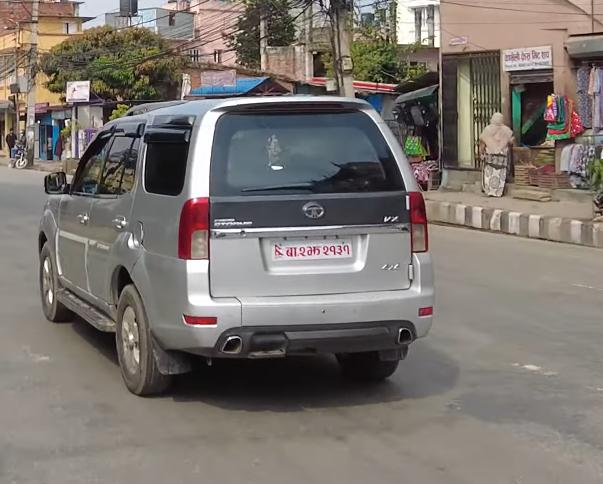SUV: (41, 93, 448, 404)
